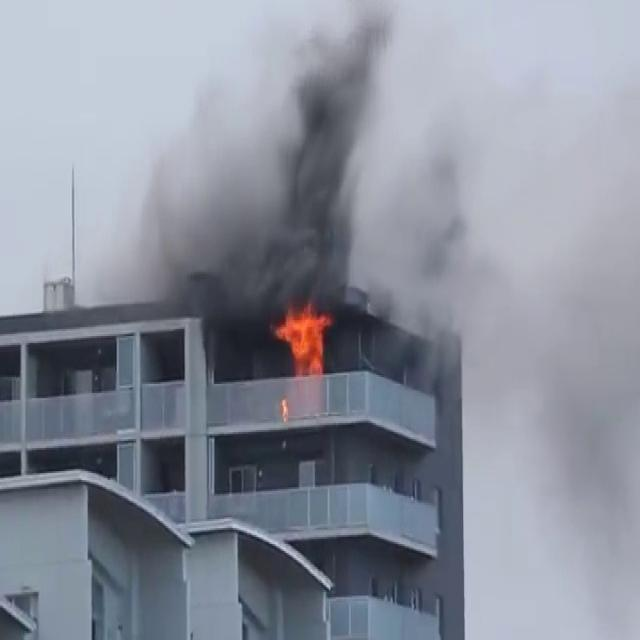Fire: (273, 296, 336, 378)
Smoke: (117, 0, 638, 368)
